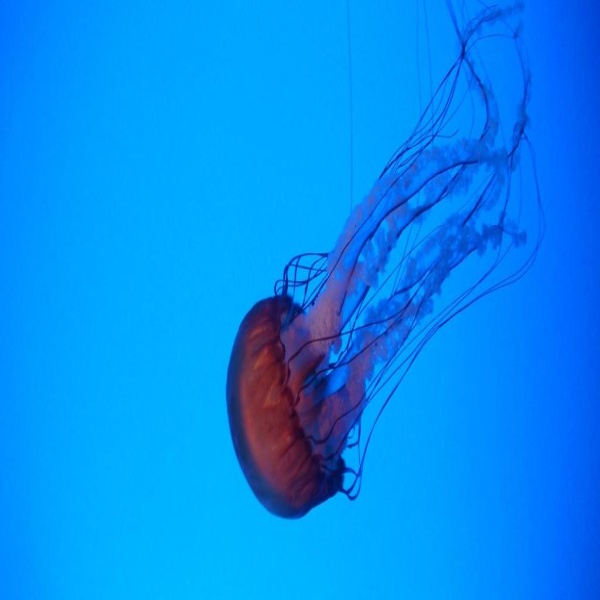Jellyfish: (225, 0, 545, 520)
